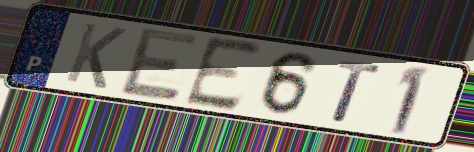1: (392, 65, 432, 138)
6: (256, 49, 320, 118)
E: (180, 34, 267, 114), (118, 25, 203, 103)
K: (61, 20, 130, 92)
T: (329, 57, 383, 125)
